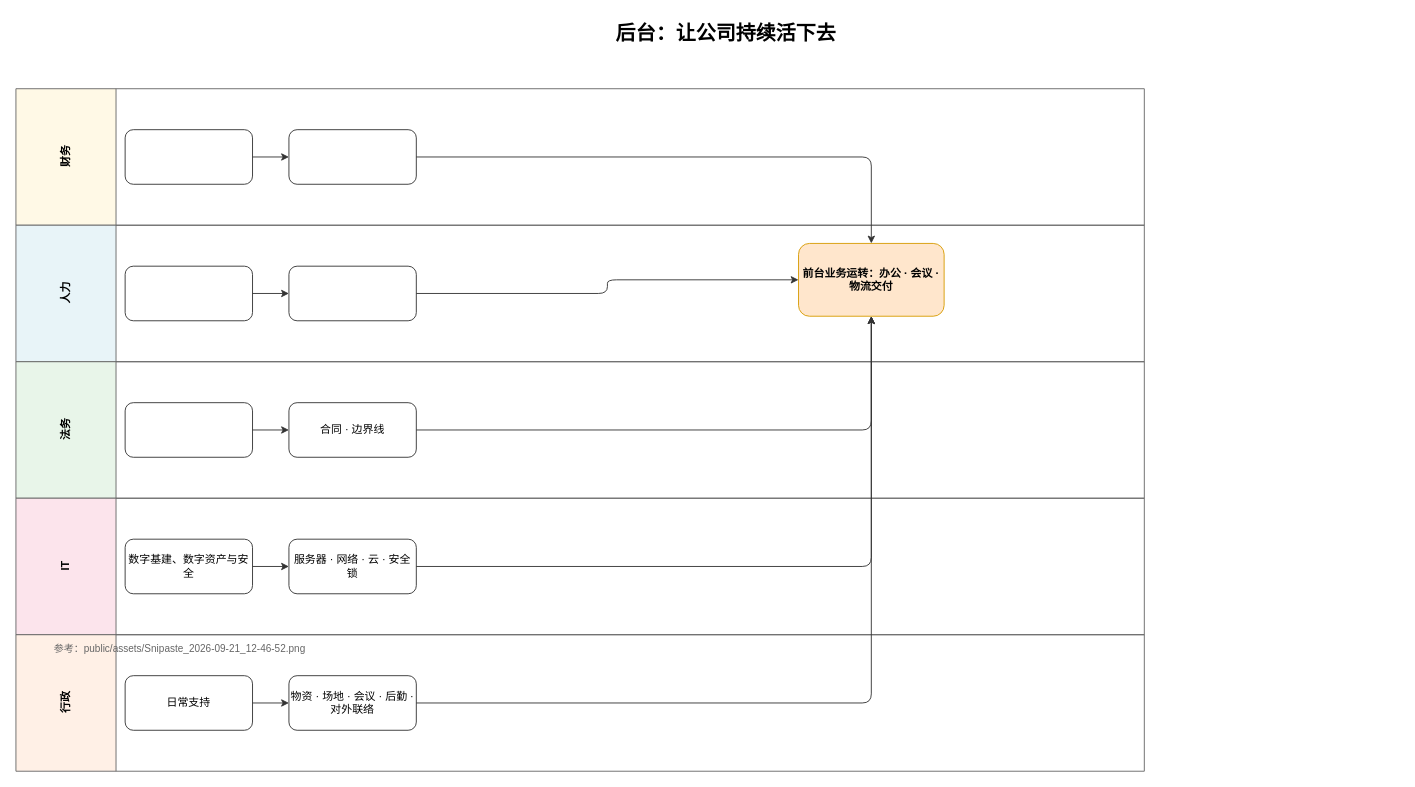
This 1415x787 diagram has some shape labels left out. Here are the shapes that lost their labels. From the top down, the centre of each, then its label:
the point at 188,156: 管钱
the point at 352,156: 收款 → 资金流 → 付款
the point at 188,293: 找人、用人、培养、激励、淘汰
the point at 352,293: 吸引 → 筛选 → 培养 → 激励 → 淘汰
the point at 188,429: 合规与边界
